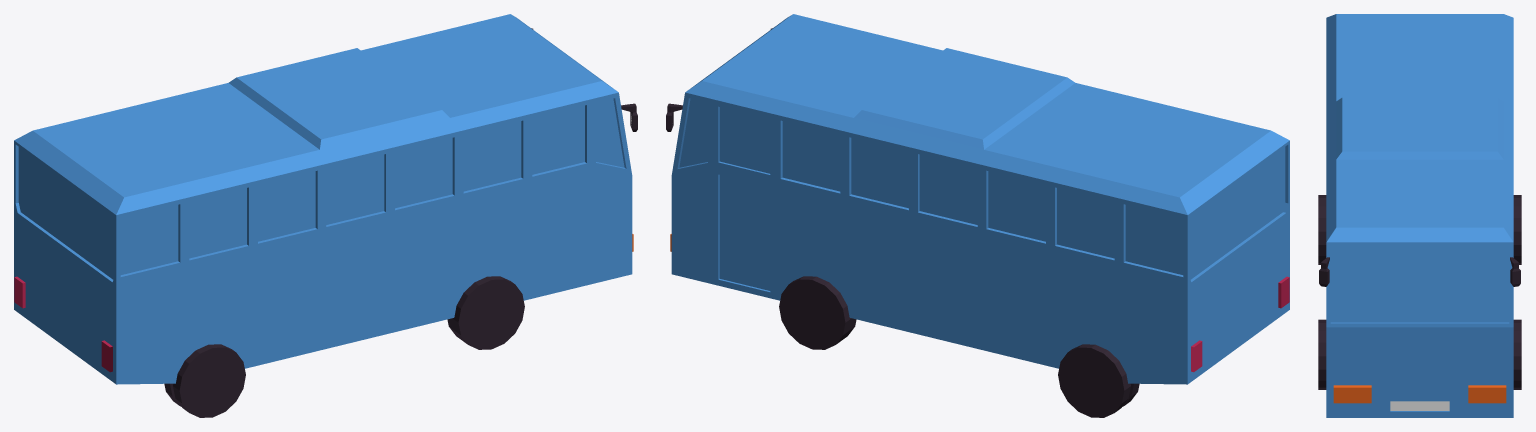
Rendered from bus.fbx.
3 views of the same model, side by side, from view 1: azimuth 30°, elevation 25°; view 2: azimuth 150°, elevation 25°; view 3: azimuth 270°, elevation 25° (orthographic). The views are drawn at different scales.
Visible parts, largest first — view 1: Cube, Cylinder, Cube.001; view 2: Cube, Cylinder, Cube.001; view 3: Cube, Cylinder, Cube.002, Cube.003.
Part boxes in pixels (x1,y1,x2,y2): Cube: [14, 14, 632, 384]; Cylinder: [164, 276, 524, 417]; Cube.001: [14, 276, 112, 372]; Cube: [671, 14, 1289, 384]; Cylinder: [779, 276, 1139, 417]; Cube.001: [1191, 276, 1289, 372]; Cube: [1326, 14, 1513, 417]; Cylinder: [1318, 195, 1521, 389]; Cube.002: [1333, 385, 1506, 403]; Cube.003: [1319, 257, 1520, 286].
Bounding box in the file's own units: 593 × 258 × 218.
